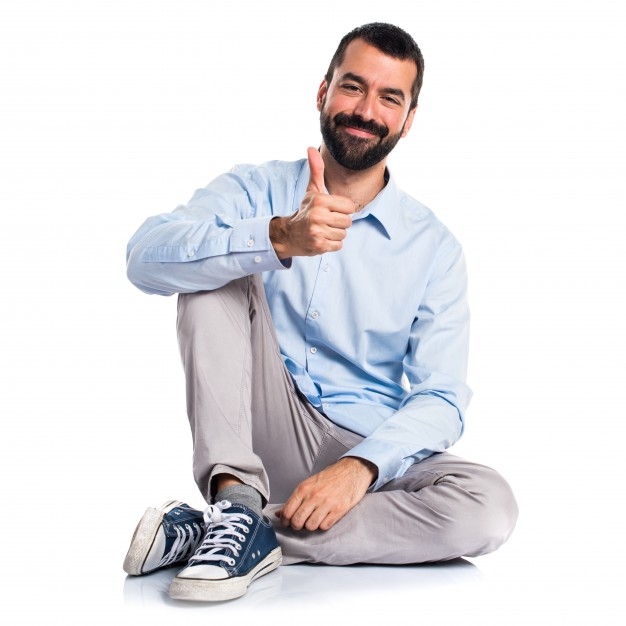thumbsup: (303, 146, 356, 252)
